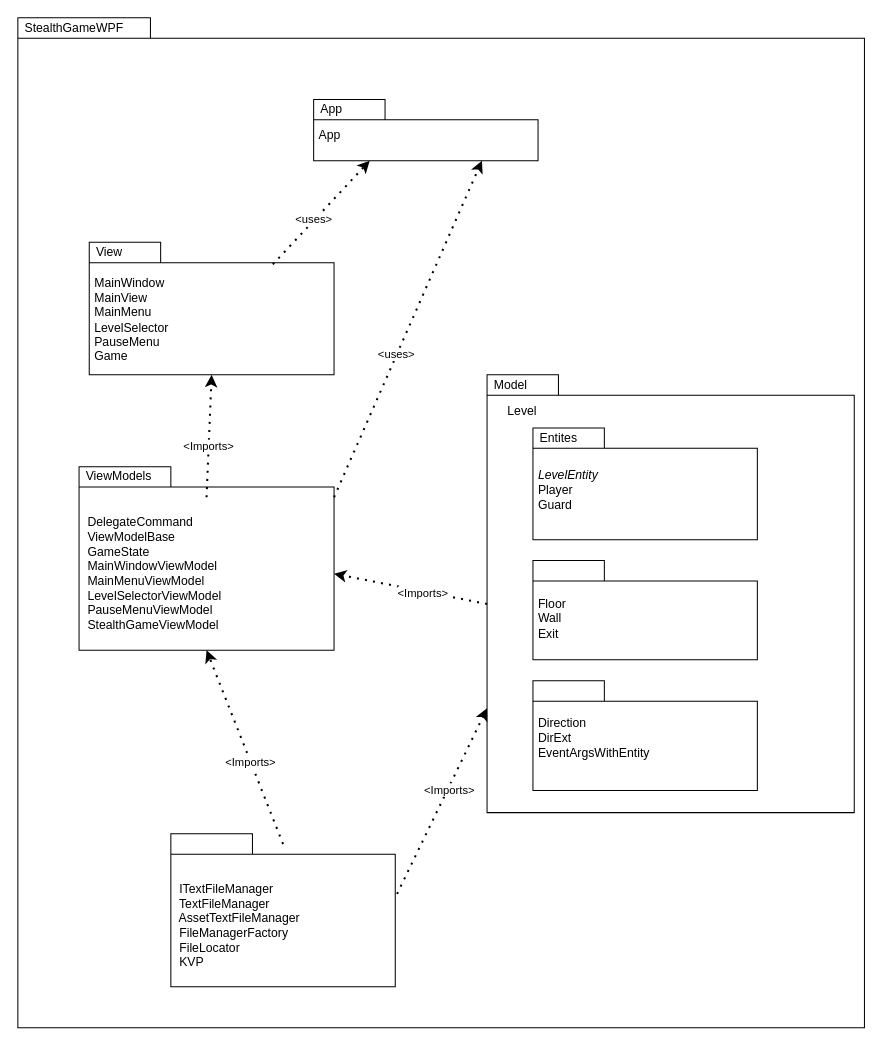
The diagram is 887 pixels wide and 1046 high, and some of its shapes have lost their labels. Here are the shapes that lost their labels. From the top down, the box of each, then its label:
(532, 559, 757, 660): Floors
(532, 680, 757, 791): Utils
(170, 833, 395, 987): Persistence
